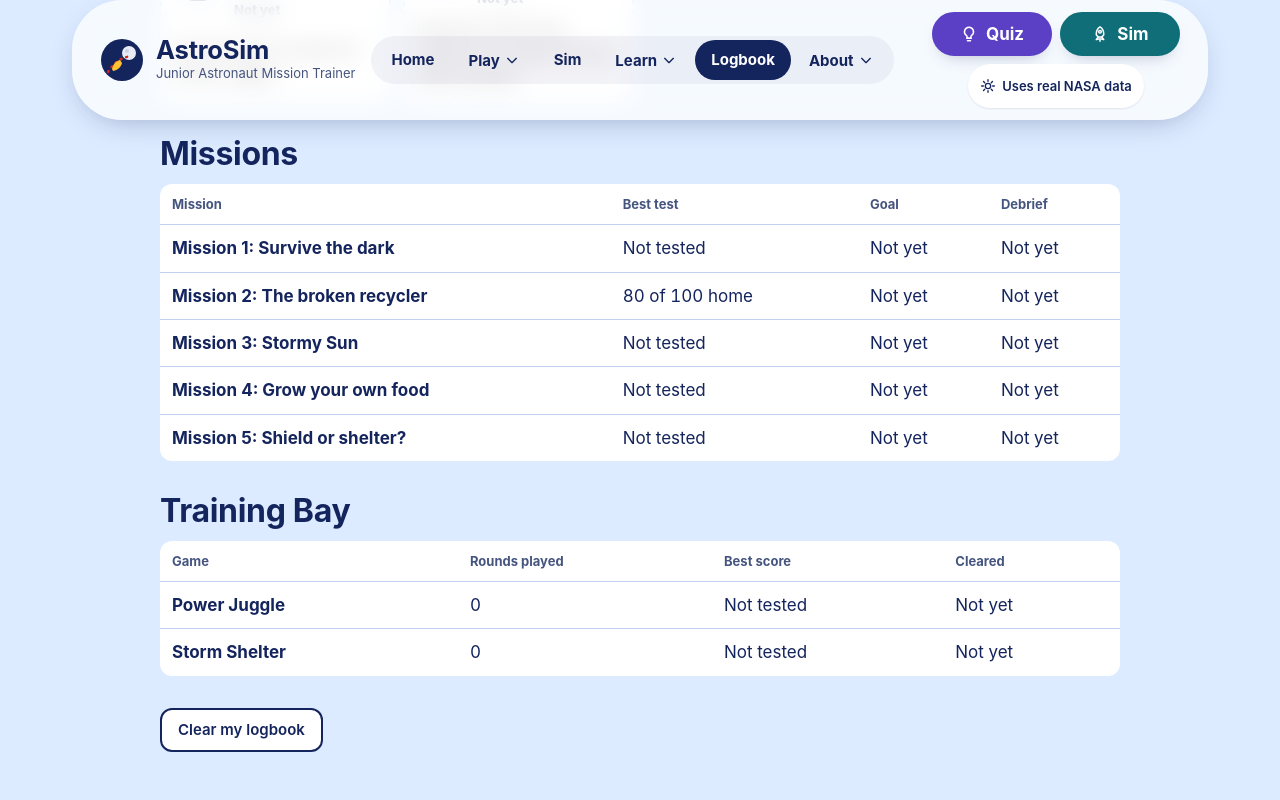
Test: Logbook › asks before clearing, then empties the logbook
The image size is (1280, 800).
(page scrolled)
Click the button "Clear my logbook" at (241, 730), box [160, 708, 323, 752]
(page scrolled)
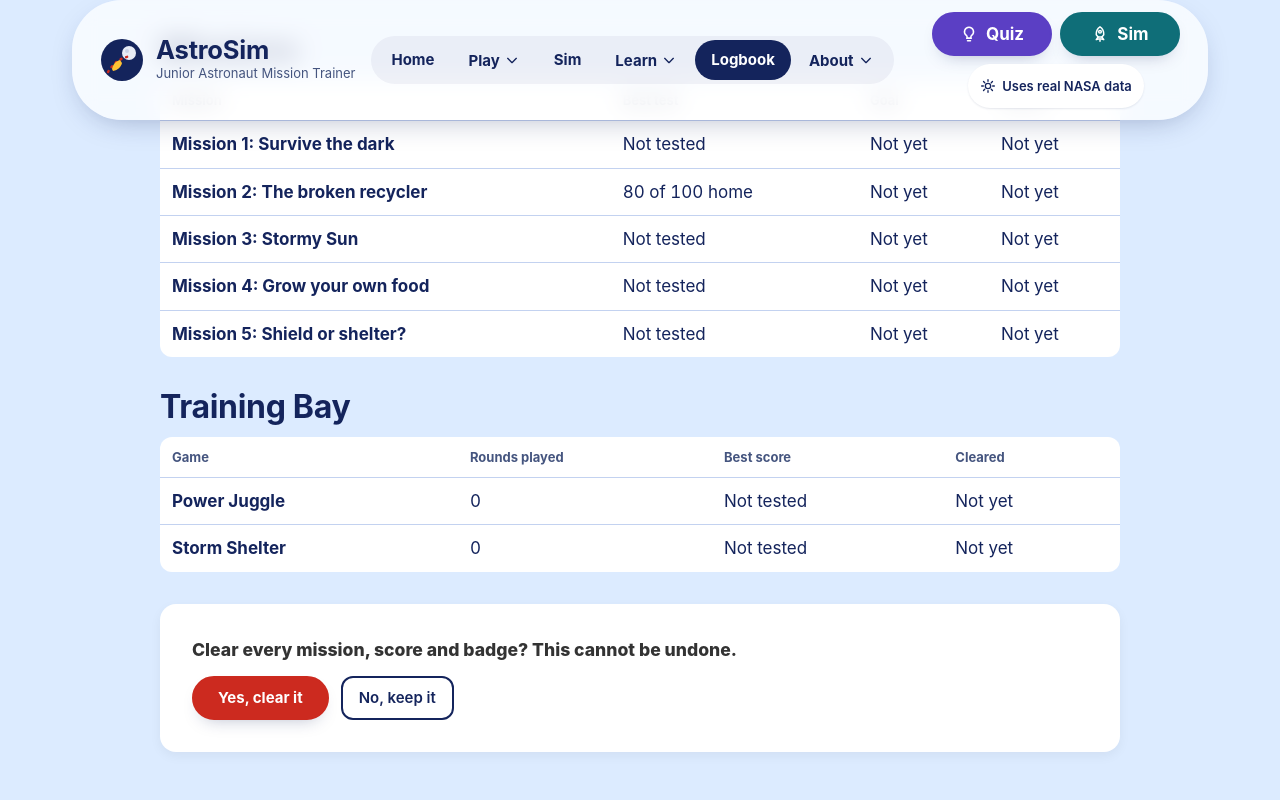
Click the button "No, keep it" at (397, 698), box [341, 676, 454, 720]
(page scrolled)
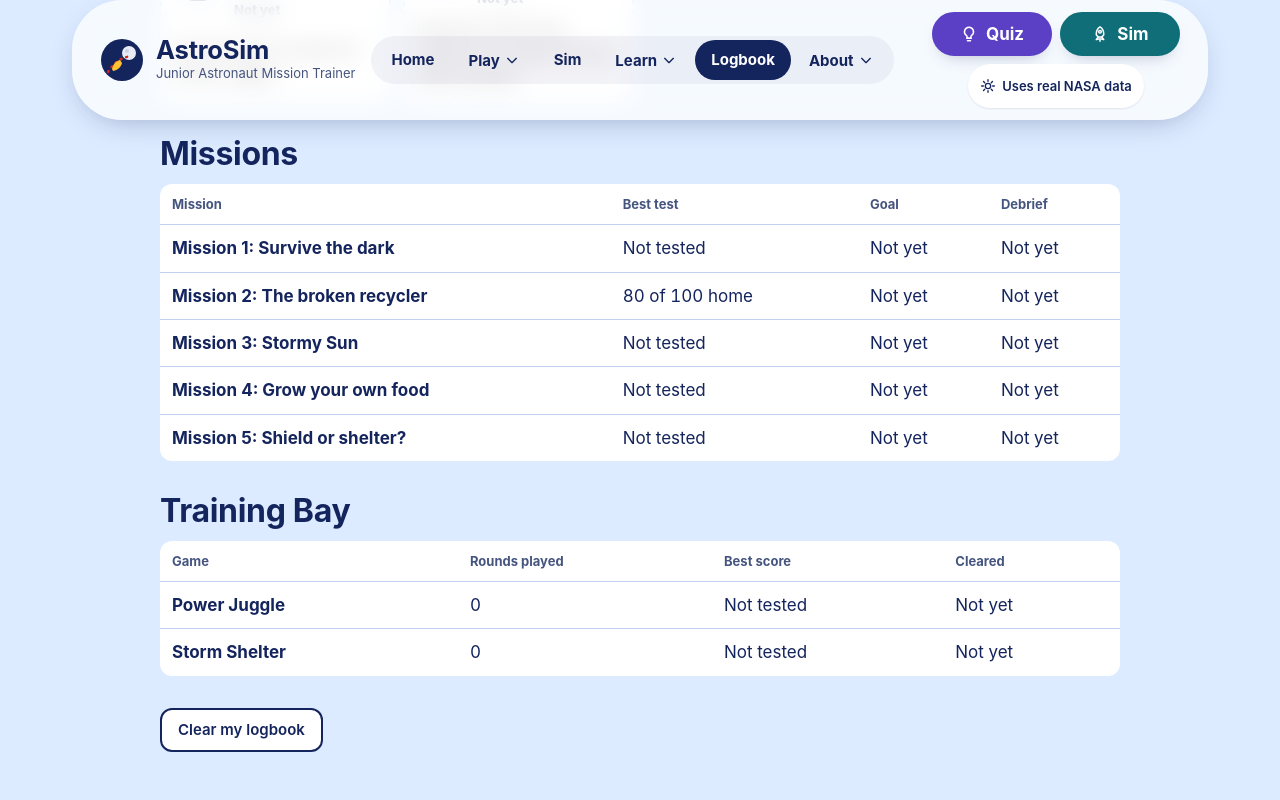
Click the button "Clear my logbook" at (241, 730), box [160, 708, 323, 752]
(page scrolled)
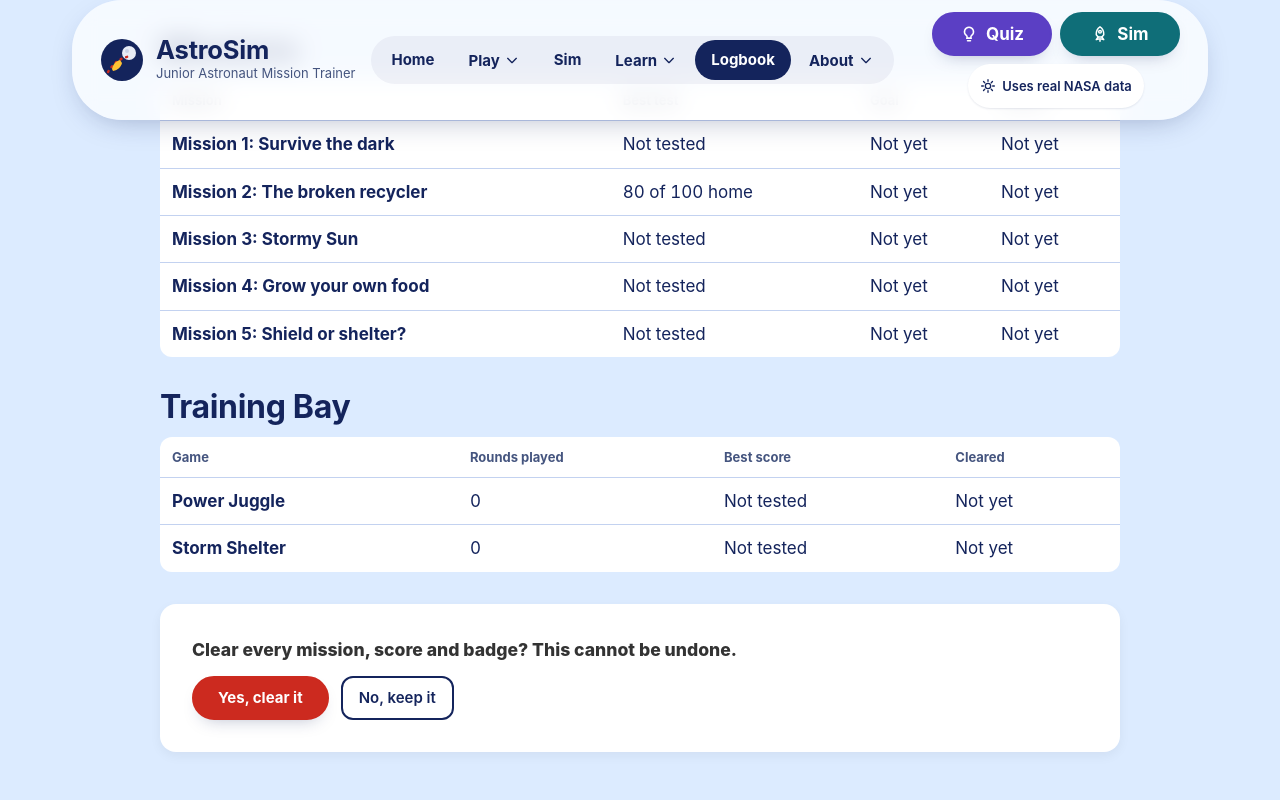
Click the button "Yes, clear it" at (260, 698), box [192, 676, 329, 720]
(page scrolled)
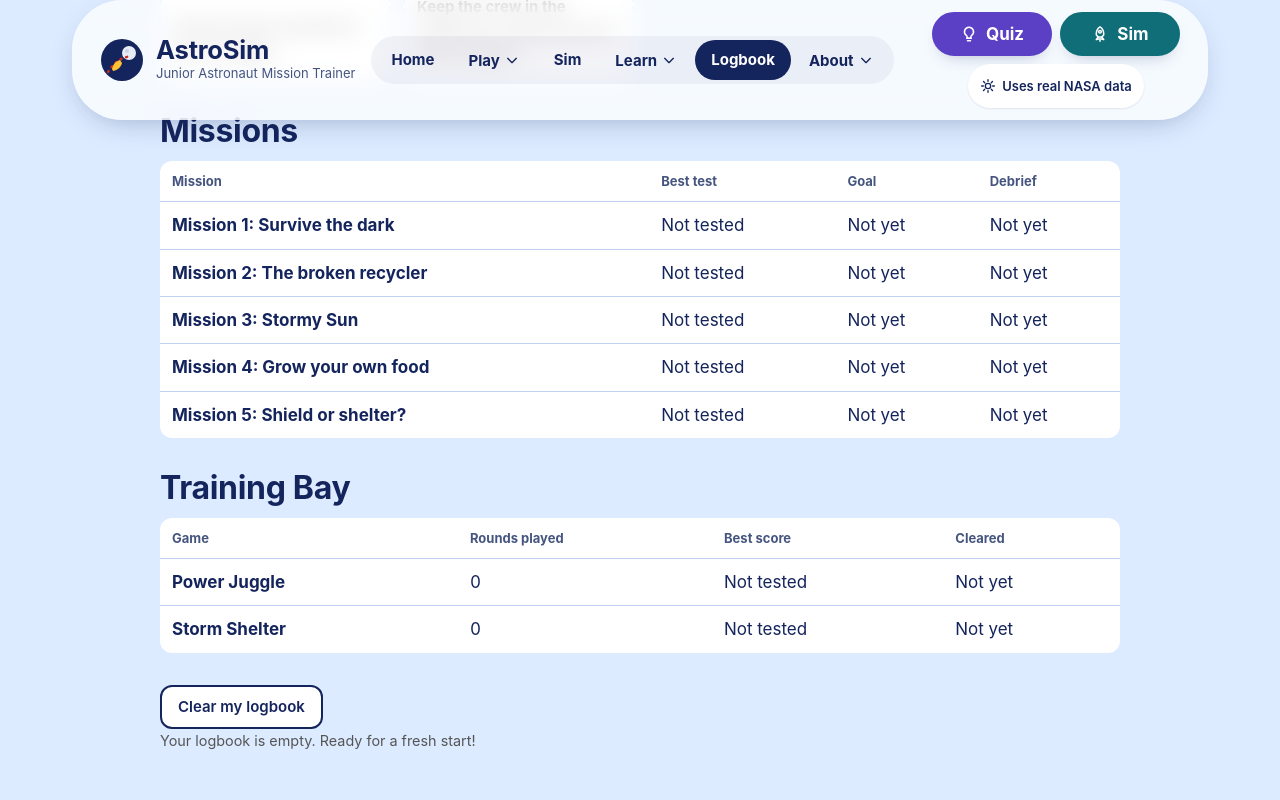
Expected: the text "Your logbook is empty. Ready for a fresh start!" is shown, [160, 732, 476, 749]
